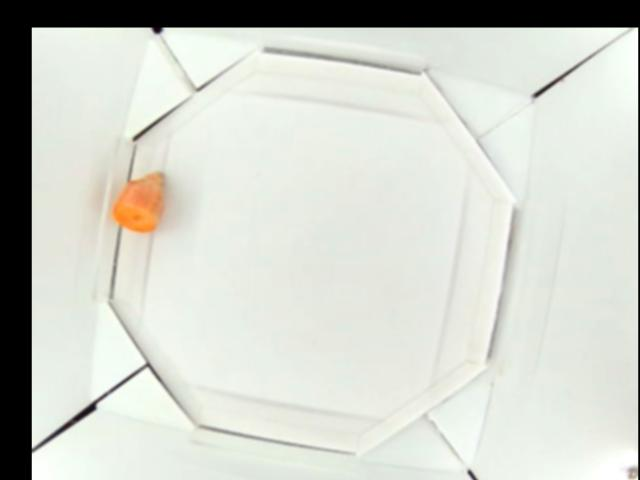Carrot: (112, 169, 166, 232)
